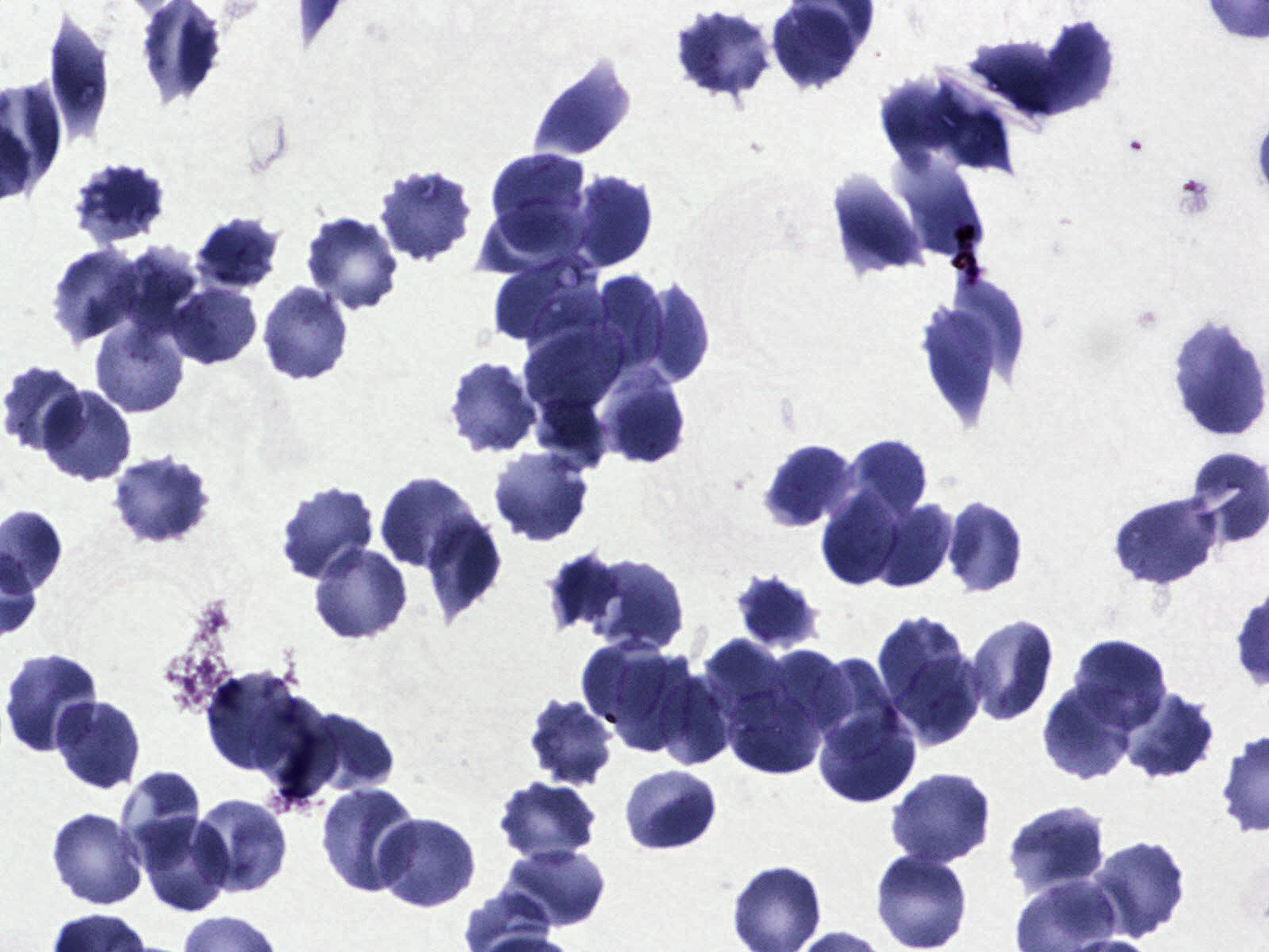Uninfected: (1174, 324, 1267, 439), (923, 303, 1001, 433), (309, 547, 412, 645), (891, 772, 992, 869), (6, 654, 102, 754), (831, 174, 922, 279), (492, 252, 600, 340), (329, 791, 420, 895), (92, 315, 184, 417), (1114, 499, 1217, 589), (899, 158, 987, 263), (872, 853, 966, 951), (372, 821, 475, 909), (1094, 843, 1187, 940), (819, 712, 918, 803), (203, 674, 293, 774), (492, 451, 589, 543), (1046, 684, 1135, 784), (880, 612, 962, 720), (251, 695, 337, 797), (286, 486, 378, 581), (493, 152, 588, 244), (968, 616, 1054, 716), (818, 656, 898, 763), (1075, 638, 1166, 732), (258, 291, 348, 386), (308, 216, 397, 312), (383, 474, 470, 572), (113, 455, 209, 543), (144, 816, 230, 914), (144, 0, 223, 106), (51, 814, 141, 907), (55, 246, 144, 340), (530, 327, 623, 416), (678, 8, 773, 95), (450, 363, 539, 455), (44, 390, 133, 482), (957, 41, 1079, 108), (196, 803, 286, 893), (381, 171, 472, 260), (1010, 807, 1102, 895), (587, 566, 682, 650), (642, 283, 715, 392), (699, 642, 792, 727), (508, 850, 609, 928), (120, 773, 200, 871), (942, 500, 1027, 592), (1186, 449, 1268, 543), (427, 512, 499, 619), (898, 657, 984, 746), (822, 488, 899, 587), (502, 781, 596, 862), (603, 370, 683, 465), (529, 283, 606, 381), (58, 701, 140, 793), (595, 276, 661, 388), (49, 16, 108, 141), (765, 446, 857, 526), (615, 660, 696, 750), (770, 651, 850, 742), (1122, 697, 1215, 774), (531, 701, 616, 785), (769, 10, 854, 94), (482, 203, 585, 272), (955, 272, 1021, 379), (584, 642, 667, 727), (871, 501, 949, 591), (577, 173, 653, 264), (848, 440, 929, 522), (626, 774, 714, 849), (1041, 19, 1114, 109), (734, 695, 818, 773), (541, 75, 624, 153), (79, 165, 164, 241), (312, 712, 393, 791), (926, 97, 1012, 171), (6, 363, 79, 449), (130, 243, 197, 334), (738, 576, 819, 651), (197, 218, 281, 290), (657, 678, 727, 763), (171, 290, 254, 361), (548, 553, 624, 629), (888, 86, 964, 159), (535, 397, 608, 465)
